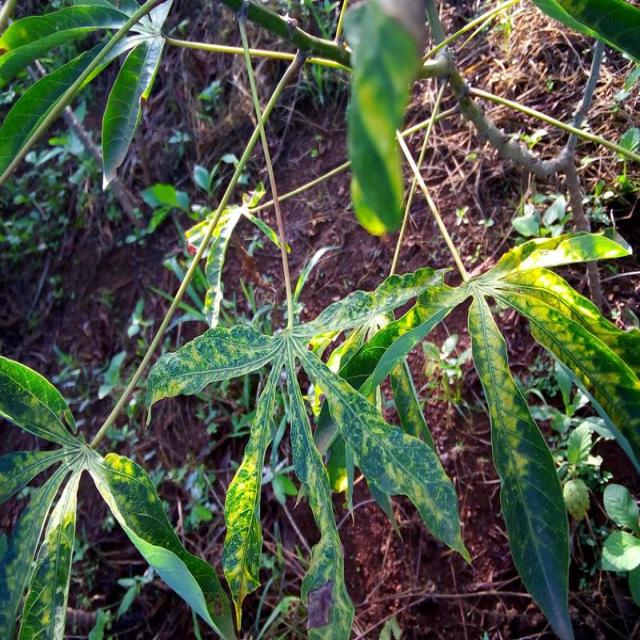Mosaico: (375, 223, 621, 608), (158, 303, 441, 604), (9, 344, 214, 633)
